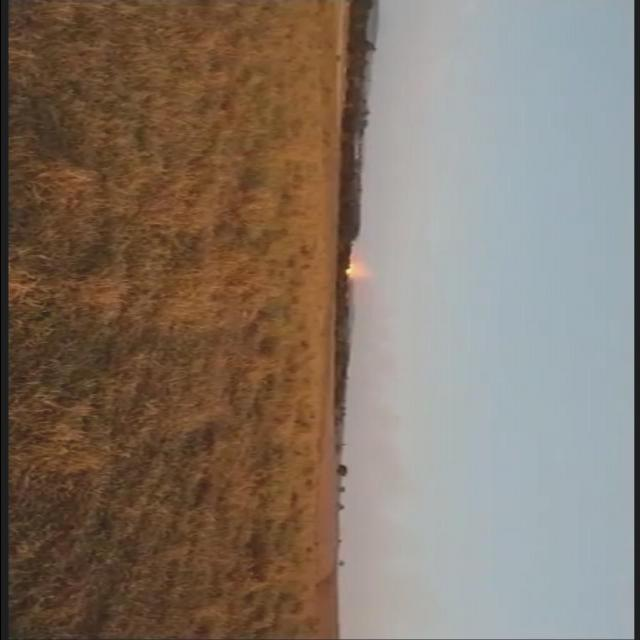Fire: (346, 260, 362, 276)
